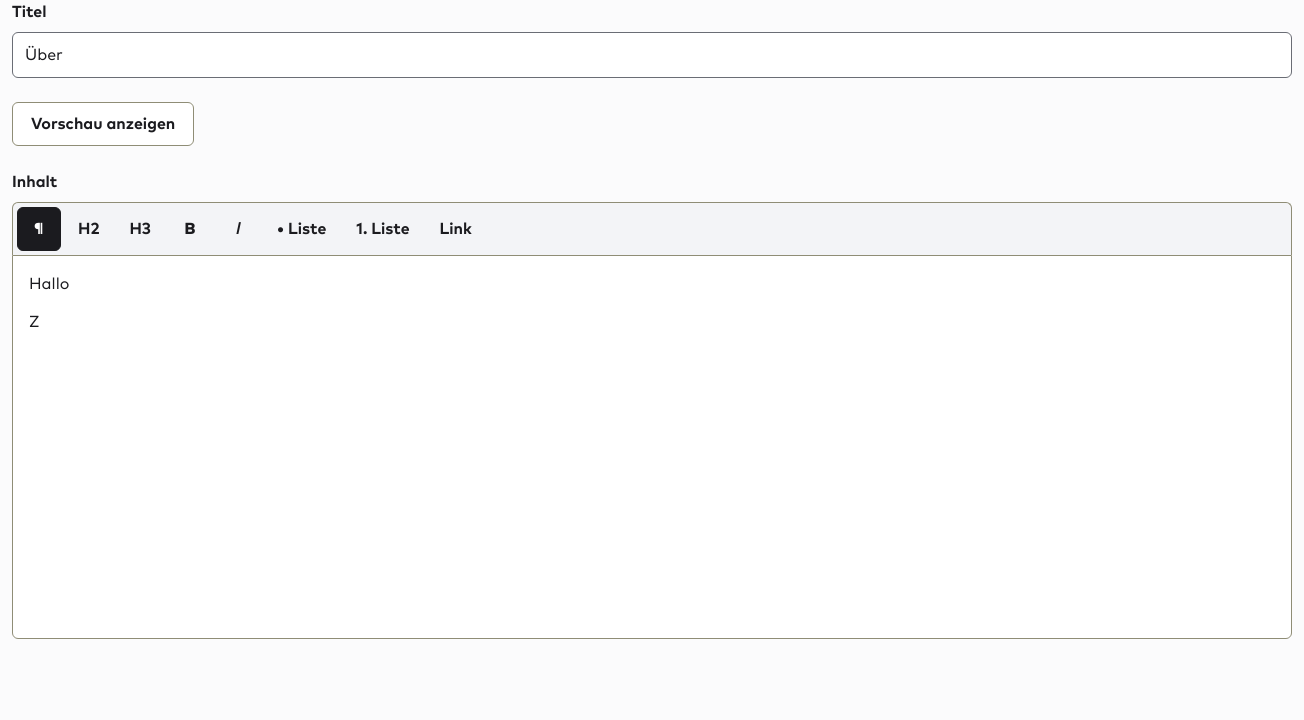
Test case: PageEditor › previews sanitized html and switches back
Later steps or results of the test are not shown.
What coordinates should you click on to do the following:
click the button "Vorschau anzeigen"
I would click on:
 (103, 124)
Its box is left=12, top=102, right=194, bottom=146.
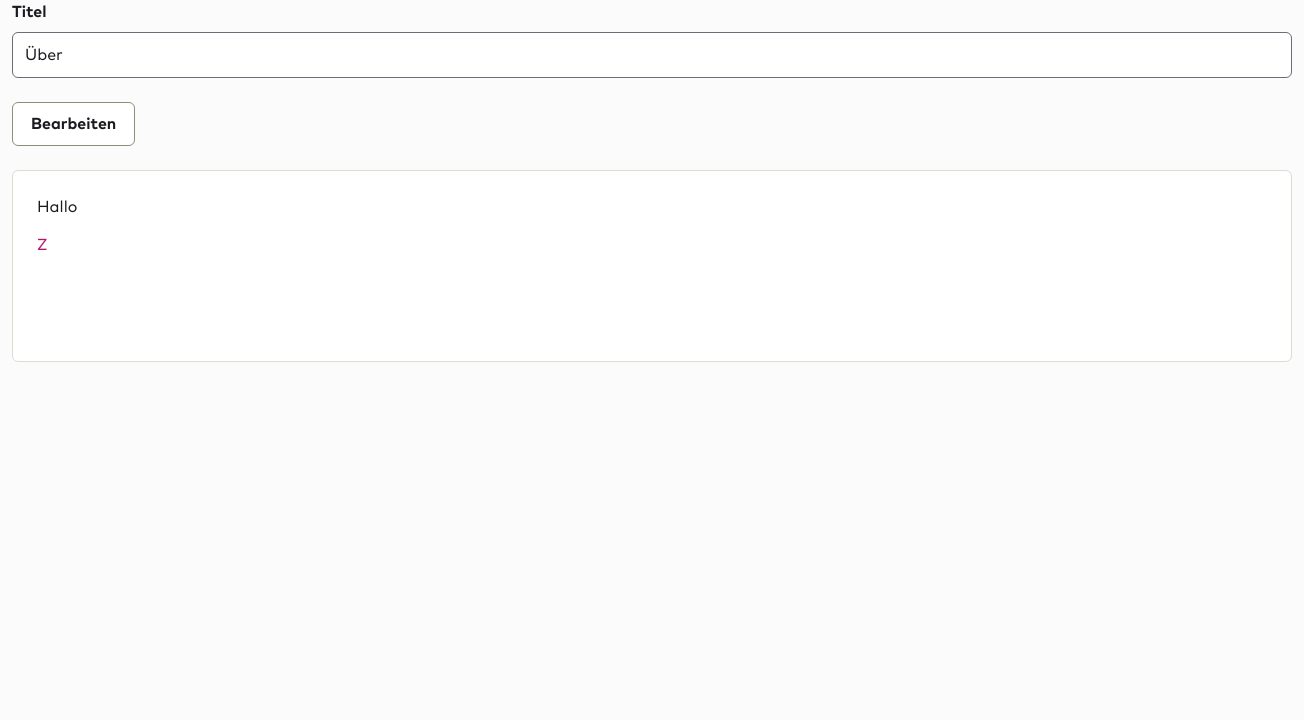
Expected: the element showing "Hallo Z" is shown, left=12, top=170, right=1292, bottom=362
Result: the field is gone
